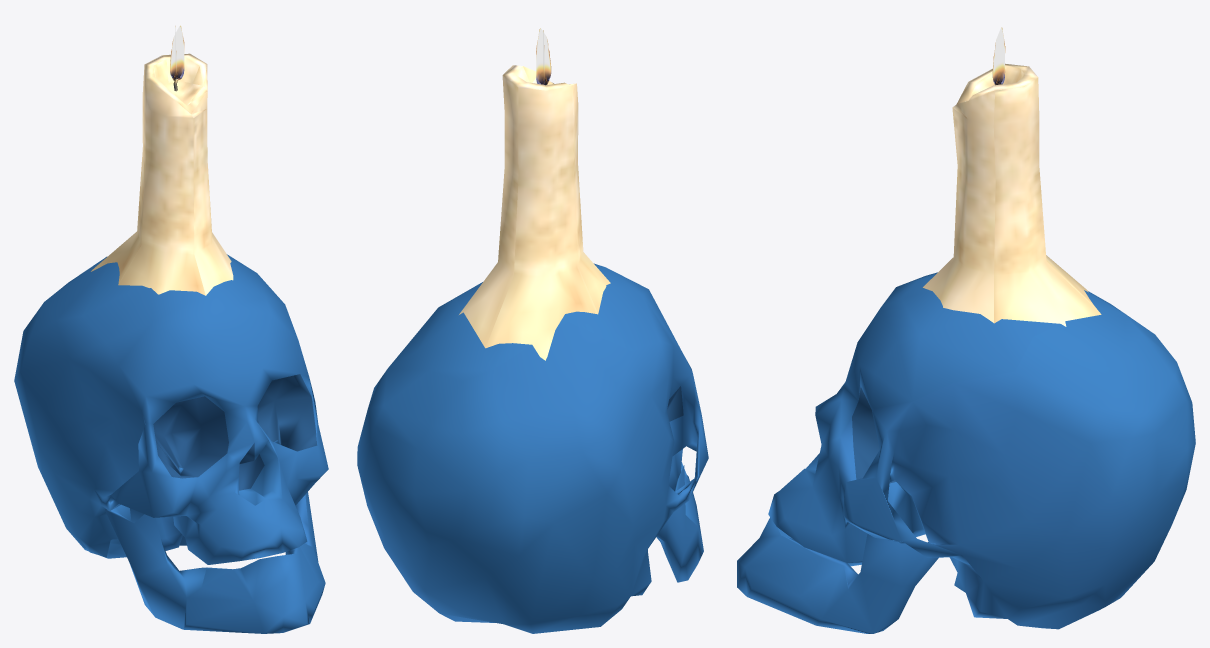
The model's file is CandleSkullShapeA.007.glb.
3 views of the same model, side by side, from view 1: azimuth 30°, elevation 25°; view 2: azimuth 150°, elevation 25°; view 3: azimuth 270°, elevation 25° (orthographic). The views are drawn at different scales.
Parts seen in each view (by area): view 1: CandleSkullShapeA.007; view 2: CandleSkullShapeA.007; view 3: CandleSkullShapeA.007.
Boxes of the visible parts, x1,y1,x2,y2 form: CandleSkullShapeA.007: [14, 25, 328, 633]; CandleSkullShapeA.007: [357, 28, 708, 633]; CandleSkullShapeA.007: [737, 27, 1195, 633].
Bounding box in the file's own units: 0.2005 × 0.4386 × 0.3132.
2 materials, 2 textured.
